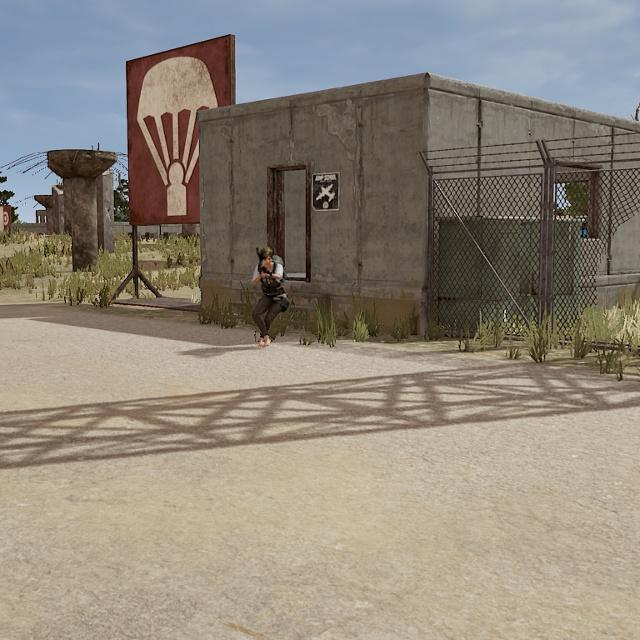head: (258, 247, 275, 267)
people: (249, 246, 288, 348)
